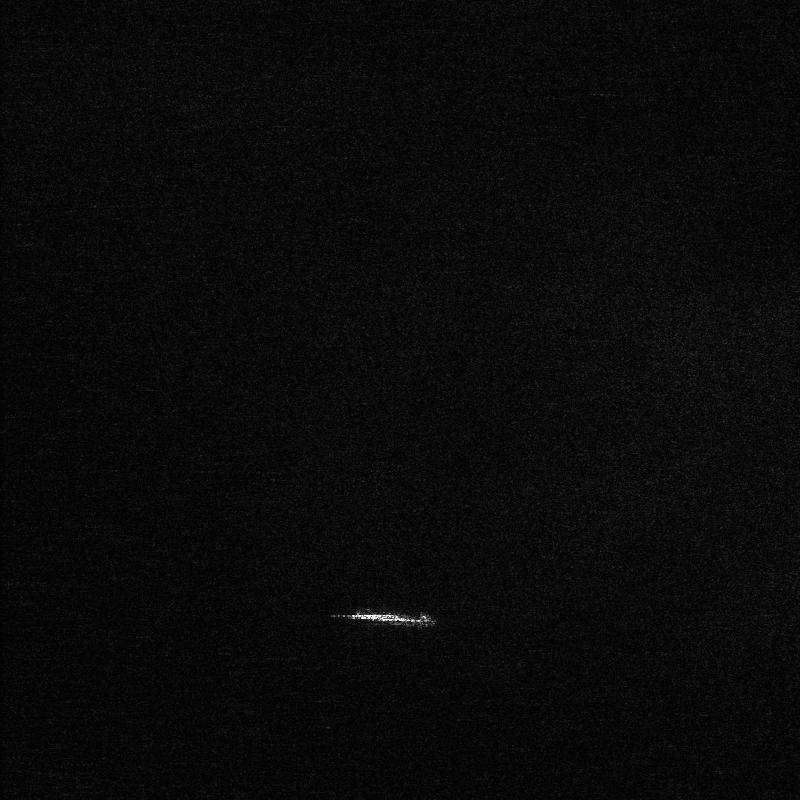ship: (346, 611, 435, 626)
